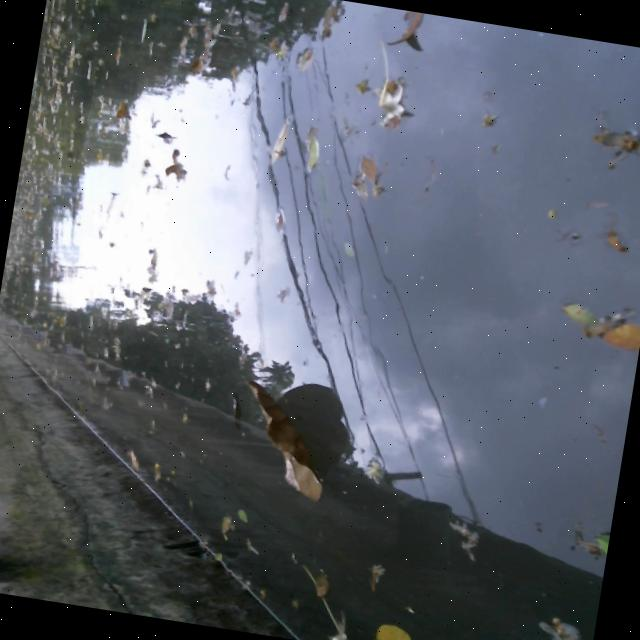Big-leaf: (224, 372, 343, 505)
Small-leaf: (375, 6, 442, 58), (368, 69, 417, 134), (295, 121, 328, 182), (263, 112, 295, 168), (596, 316, 640, 356), (542, 608, 592, 640), (550, 298, 595, 329), (369, 618, 422, 640), (314, 0, 347, 35), (262, 202, 291, 236), (603, 225, 633, 257), (583, 525, 611, 559), (353, 152, 384, 182), (293, 41, 319, 75), (209, 512, 238, 542), (310, 564, 334, 599), (158, 148, 182, 181), (188, 47, 211, 78), (221, 60, 243, 91), (335, 235, 361, 260), (271, 0, 294, 27), (110, 97, 134, 122), (148, 459, 170, 486), (230, 504, 255, 525), (123, 449, 143, 471), (151, 127, 173, 143)
